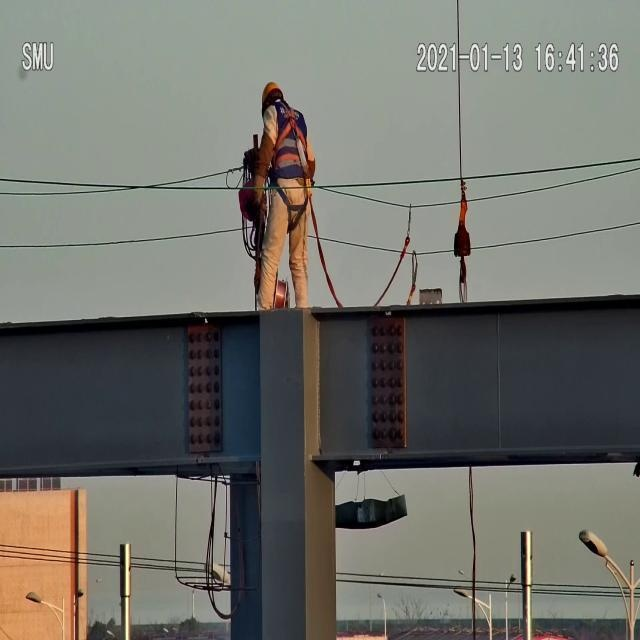Arnes_seguridad: (269, 100, 312, 186)
